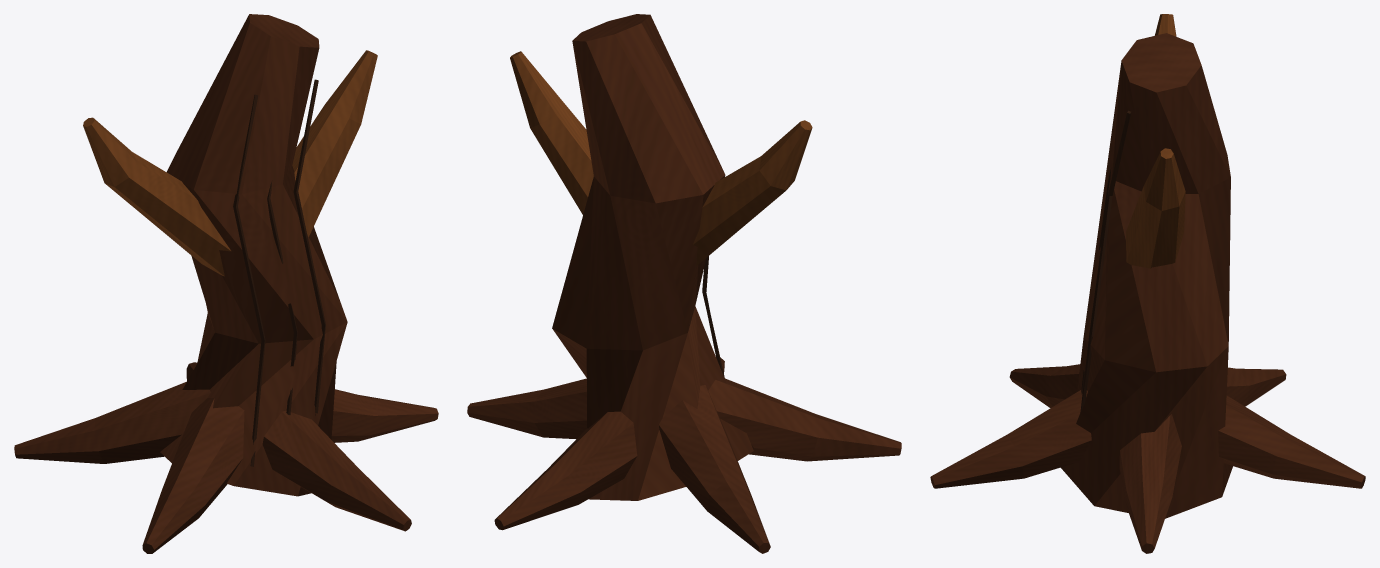
Rendered from forest_tree_snag.glb.
3 renders of one model, left to right at view 1: azimuth 30°, elevation 25°; view 2: azimuth 150°, elevation 25°; view 3: azimuth 270°, elevation 25°, orthographic. The views are drawn at different scales.
Parts seen in each view (by area): view 1: Ancient twisting trunk, Tree buttress root.002, Tree buttress root.003, Broken woodland branch, Tree buttress root.004, Broken woodland branch.001, Tree buttress root, Tree bark carved groove, Tree bark carved groove.002, Tree bark carved groove.001; view 2: Ancient twisting trunk, Tree buttress root.002, Tree buttress root.003, Tree buttress root.001, Broken woodland branch, Broken woodland branch.001, Tree buttress root; view 3: Ancient twisting trunk, Tree buttress root.004, Tree buttress root.001, Tree buttress root, Broken woodland branch.001, Tree buttress root.003, Tree buttress root.002, Tree bark carved groove.002.
Part boxes in pixels (<box>): Ancient twisting trunk: <box>160,14,347,496</box>; Tree buttress root.002: <box>14,381,210,463</box>; Tree buttress root.003: <box>142,398,244,553</box>; Broken woodland branch: <box>83,117,231,276</box>; Tree buttress root.004: <box>262,410,411,531</box>; Broken woodland branch.001: <box>292,50,377,236</box>; Tree buttress root: <box>331,389,438,442</box>; Tree bark carved groove: <box>233,94,265,466</box>; Tree bark carved groove.002: <box>293,79,325,415</box>; Tree bark carved groove.001: <box>267,180,297,414</box>; Ancient twisting trunk: <box>552,14,753,500</box>; Tree buttress root.002: <box>659,385,770,553</box>; Tree buttress root.003: <box>708,378,901,461</box>; Tree buttress root.001: <box>494,411,637,530</box>; Broken woodland branch: <box>693,120,812,265</box>; Broken woodland branch.001: <box>510,51,593,214</box>; Tree buttress root: <box>467,378,586,439</box>; Ancient twisting trunk: <box>1060,33,1232,518</box>; Tree buttress root.004: <box>930,390,1091,488</box>; Tree buttress root.001: <box>1218,395,1365,488</box>; Tree buttress root: <box>1119,414,1181,553</box>; Broken woodland branch.001: <box>1126,148,1185,268</box>; Tree buttress root.003: <box>1009,364,1080,407</box>; Tree buttress root.002: <box>1226,367,1286,406</box>; Tree bark carved groove.002: <box>1080,110,1131,412</box>.
Bounding box in the file's own units: 1.54 × 1.88 × 1.61.
Materials: 3 (3 with a texture image).
